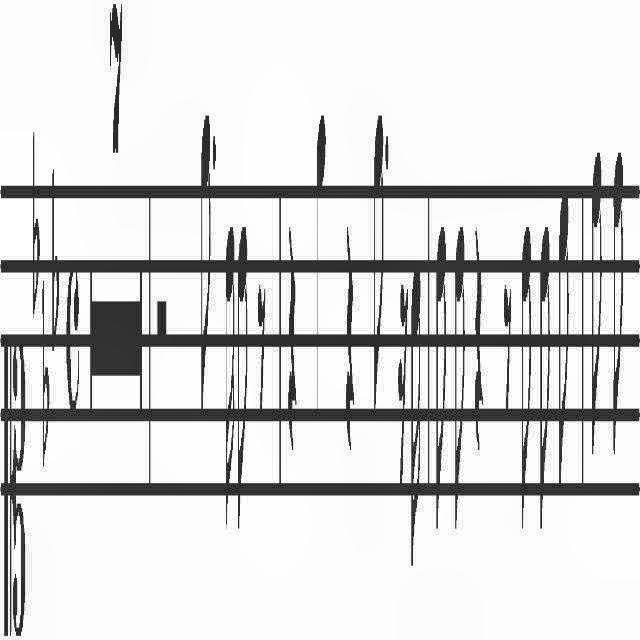Bemol: (29, 96, 41, 324), (40, 266, 50, 478), (50, 142, 60, 354)
Eighth-note: (516, 190, 532, 566), (610, 132, 626, 480), (452, 198, 468, 542), (556, 154, 572, 498), (370, 105, 384, 423), (198, 82, 210, 450), (434, 192, 446, 540), (590, 124, 602, 472), (236, 222, 248, 546), (538, 203, 550, 509)
Eighth-rest: (256, 254, 268, 433), (500, 247, 512, 421)
Quarter-note: (312, 85, 331, 435)
Quarter-rest: (342, 166, 356, 502), (285, 198, 299, 490), (472, 206, 483, 470)
Sixteenth-note: (220, 200, 236, 544), (408, 220, 422, 598)
